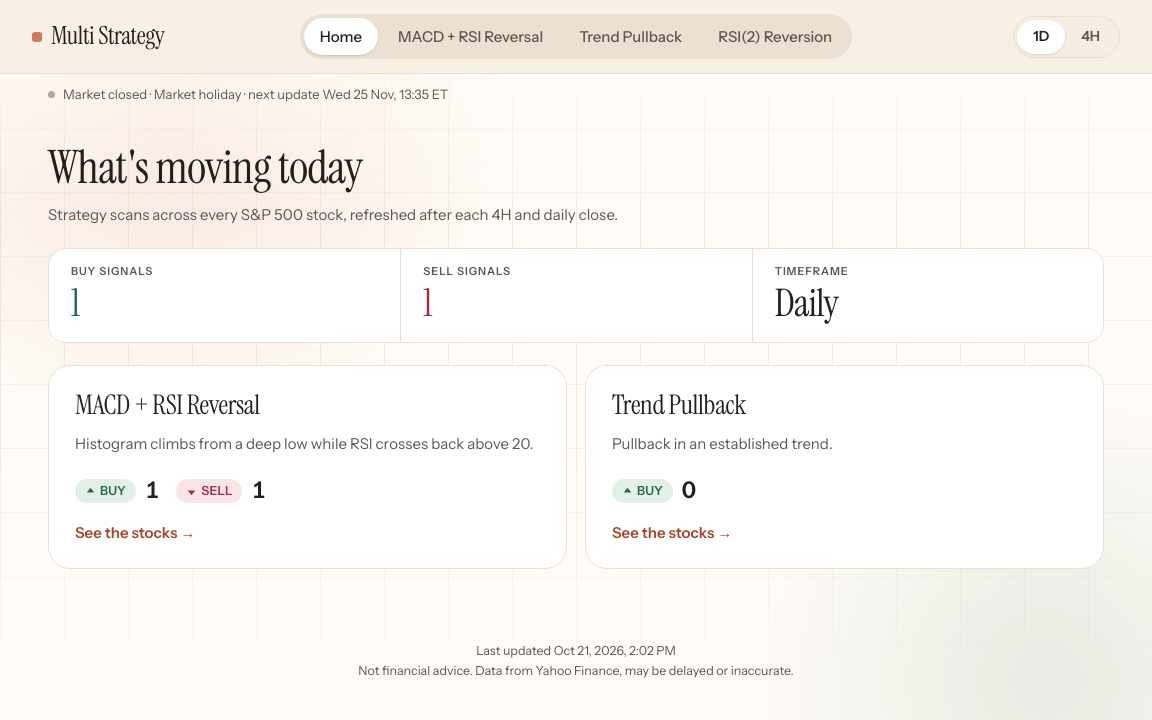
it: long-only lists › offers no SELL filter when a strategy has no short signals
Expected: the heading "What's moving today" is shown, [48,137,362,197]
Click the link "Trend Pullback": (631,36) [579,27,682,46]
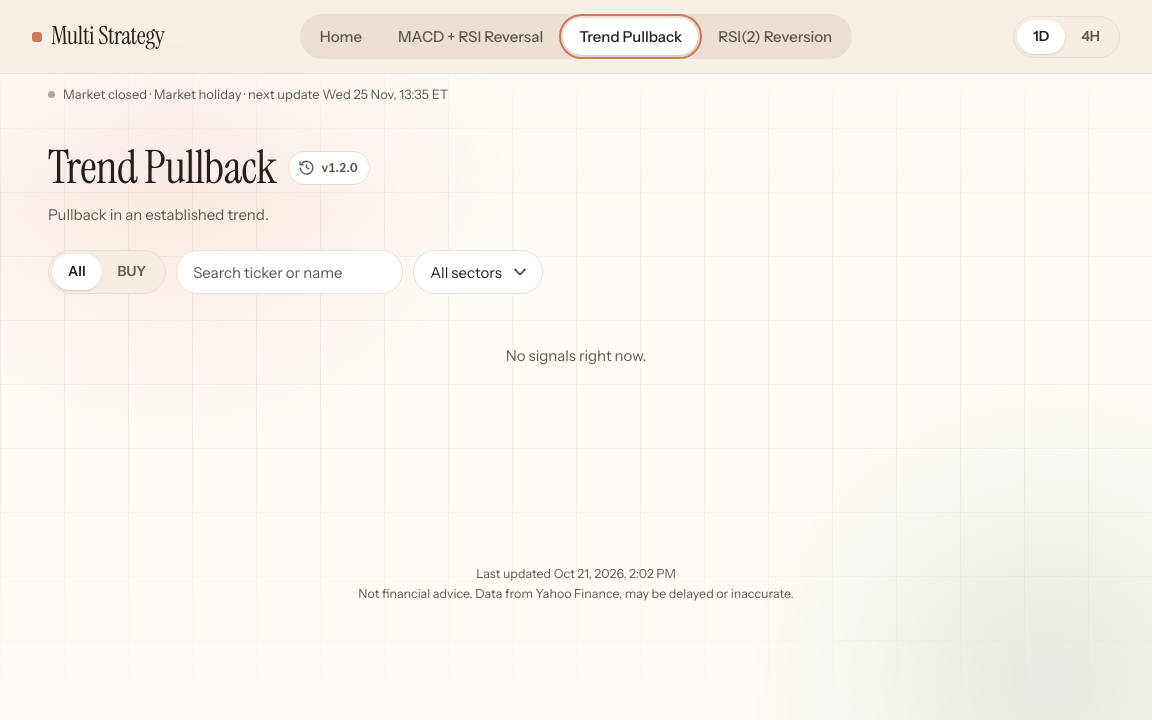
Now the element named "Signal filter" is shown, box [48,250,166,294]
Now the buttons read "All", "BUY", in this order, box [52,254,102,290]; [102,254,162,290]
